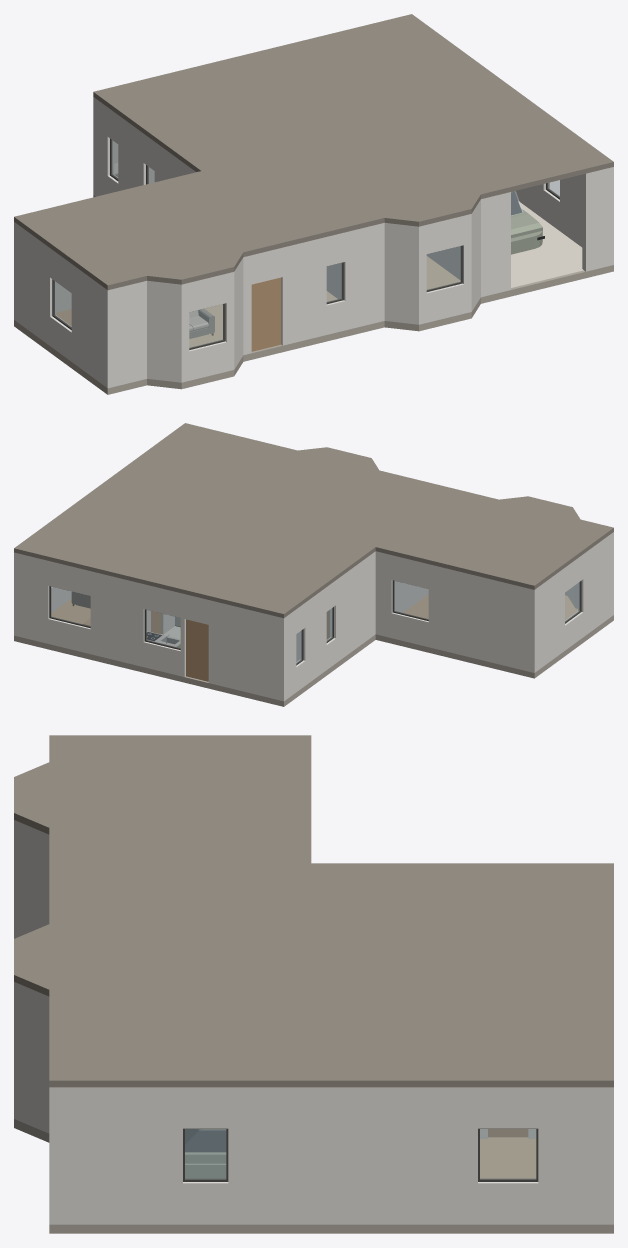
Rendered from plan.glb.
3 views of the same model, one above another, from view 1: azimuth 30°, elevation 25°; view 2: azimuth 150°, elevation 25°; view 3: azimuth 270°, elevation 25° (orthographic). The views are drawn at different scales.
Parts seen in each view (by area): view 1: roof:roof, wall:w_front, wall:w_west, wall:w_side, slab:slab, floor:r_garage, wall:w_east, door:d_front, furniture:f_car, window:win_bay_living:glass, window:win_bay_dining:glass, floor:r_living (+5 smaller); view 2: roof:roof, wall:w_rear, wall:w_yard, wall:w_side, wall:w_west, slab:slab, door:d_back, window:win_rumpus_n:glass, window:win_living_n:glass, window:win_kitchen:glass, wall:p_liv, floor:r_rumpus (+3 smaller); view 3: roof:roof, wall:w_east, wall:w_front, slab:slab, window:win_rumpus_e:glass, floor:r_rumpus, furniture:f_car, window:win_garage:glass, wall:w_rear.
Boxes of the visible parts, <box> form: roof:roof: <box>14,14,613,290</box>; wall:w_front: <box>104,167,613,388</box>; wall:w_west: <box>14,222,104,385</box>; wall:w_side: <box>93,97,195,196</box>; slab:slab: <box>14,195,613,394</box>; floor:r_garage: <box>511,201,583,288</box>; wall:w_east: <box>514,174,582,247</box>; door:d_front: <box>251,277,281,351</box>; furniture:f_car: <box>511,191,544,254</box>; window:win_bay_living:glass: <box>189,304,223,347</box>; window:win_bay_dining:glass: <box>427,246,460,289</box>; floor:r_living: <box>56,304,222,347</box>; roof:roof: <box>14,423,613,618</box>; wall:w_rear: <box>14,552,278,699</box>; wall:w_yard: <box>375,551,529,671</box>; wall:w_side: <box>278,551,375,701</box>; wall:w_west: <box>529,534,610,672</box>; slab:slab: <box>14,615,613,706</box>; door:d_back: <box>186,619,208,681</box>; window:win_rumpus_n:glass: <box>51,587,90,626</box>; window:win_living_n:glass: <box>394,581,428,619</box>; window:win_kitchen:glass: <box>146,610,180,648</box>; wall:p_liv: <box>394,581,428,612</box>; floor:r_rumpus: <box>51,599,90,623</box>; roof:roof: <box>14,735,613,1087</box>; wall:w_east: <box>59,1087,603,1224</box>; wall:w_front: <box>14,820,59,1224</box>; slab:slab: <box>14,1119,613,1233</box>; window:win_rumpus_e:glass: <box>480,1129,535,1179</box>; floor:r_rumpus: <box>480,1137,536,1178</box>; furniture:f_car: <box>185,1129,226,1178</box>; window:win_garage:glass: <box>185,1129,225,1179</box>; wall:w_rear: <box>604,1087,613,1224</box>.
Size of the model in its own units: 16.2 by 3.35 by 11.9.
